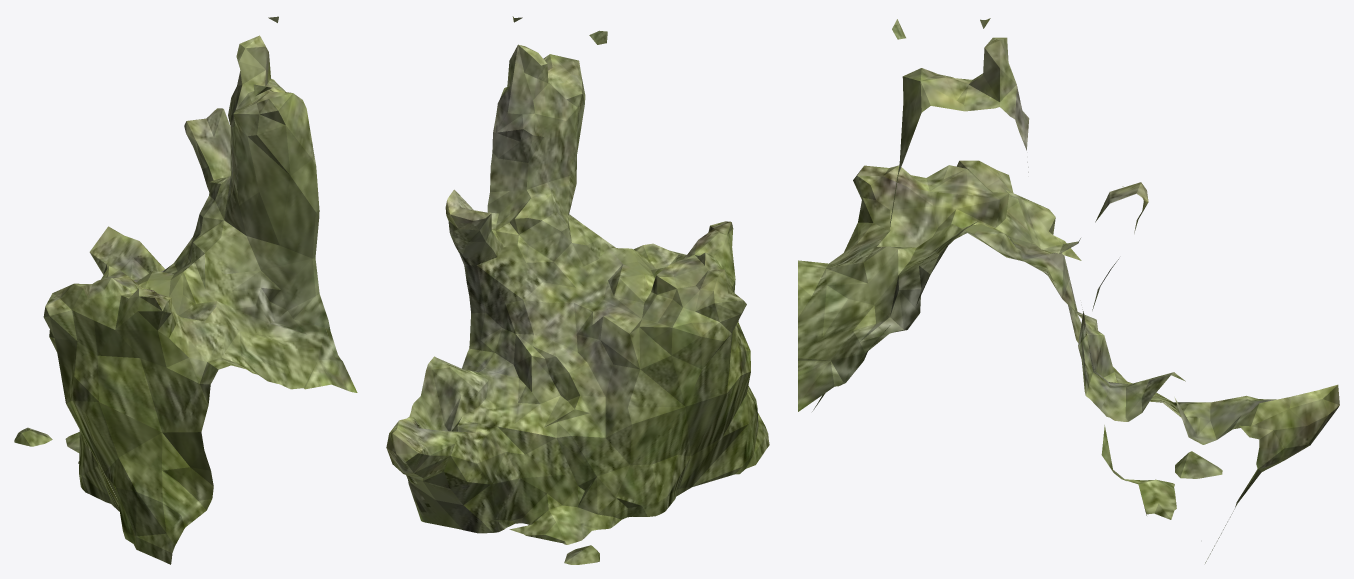
The picture shows the model from 3 angles, left to right: view 1: azimuth 30°, elevation 25°; view 2: azimuth 150°, elevation 25°; view 3: azimuth 270°, elevation 25°; orthographic projection. The views are drawn at different scales.
Size of the model in its own units: 1.63 by 2.95 by 2.67.
2 materials, 2 textured.
